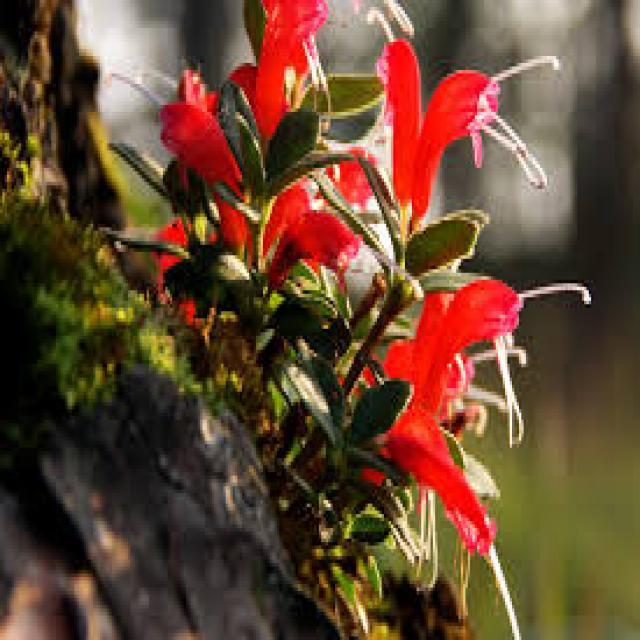Lipstick-Plant: (154, 14, 594, 542)
